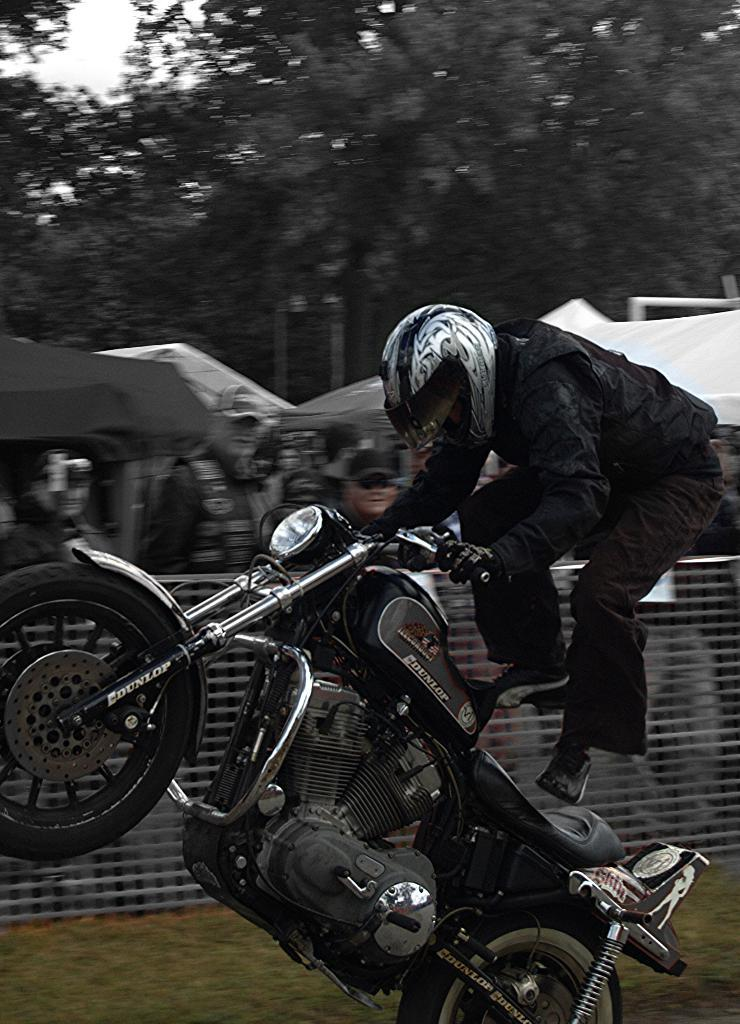helmet: (380, 304, 499, 454)
nohelmet: (212, 382, 268, 466), (343, 447, 402, 522)
